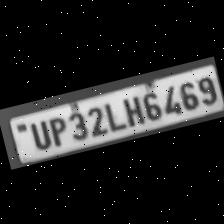2: (82, 100, 108, 136)
3: (63, 106, 89, 142)
4: (156, 80, 181, 116)
6: (136, 86, 162, 122), (174, 76, 199, 110)
9: (192, 71, 219, 106)
H: (119, 92, 144, 126)
L: (100, 96, 125, 132)
P: (43, 111, 70, 147)
U: (24, 116, 52, 151)
